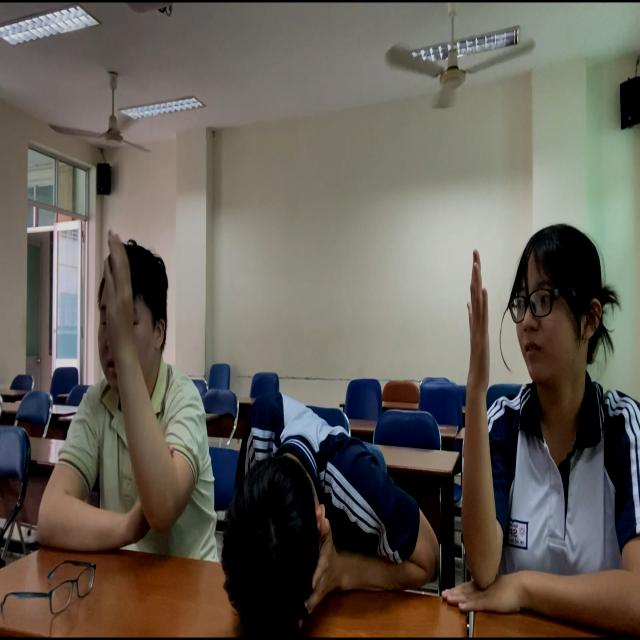raise_hand: (429, 164, 640, 640), (35, 209, 211, 597)
sleep: (201, 389, 440, 633)
